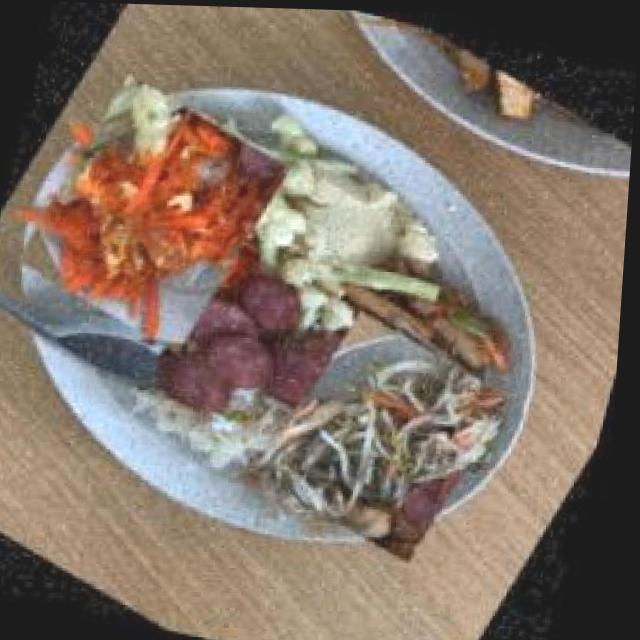carrot_eggs: (4, 64, 315, 365)
chinese_sausage: (130, 234, 398, 480)
mung_bean_sprouts: (253, 297, 531, 576)
